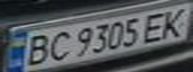0: (106, 18, 130, 51)
3: (90, 21, 112, 54)
5: (121, 15, 148, 47)
9: (72, 25, 96, 58)
B: (18, 32, 54, 68)
C: (42, 28, 75, 63)
E: (136, 10, 175, 43)
K: (154, 6, 193, 38)
